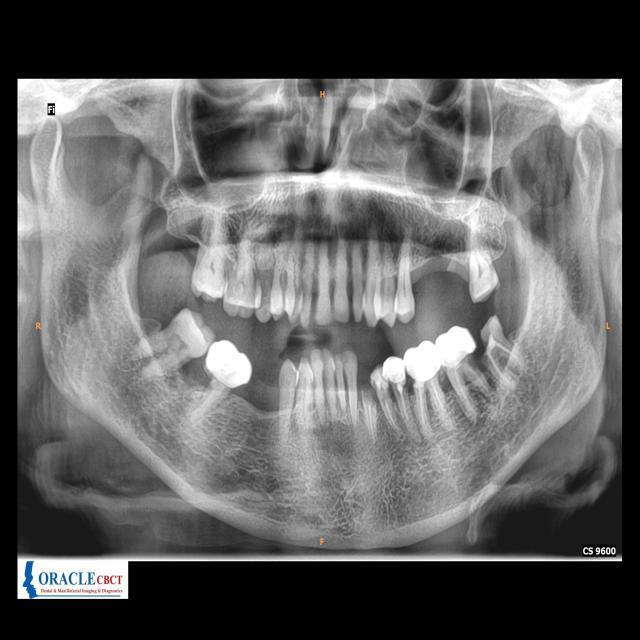dentin-curugu: (475, 314, 504, 351)
dolgu: (372, 365, 388, 394)
kanal-tedavisi: (453, 365, 495, 417), (491, 338, 527, 386), (416, 376, 444, 432), (395, 385, 414, 428), (377, 388, 393, 432), (367, 405, 378, 442)
kaplama: (436, 324, 484, 375), (210, 340, 252, 394), (402, 338, 444, 382), (382, 352, 407, 388)
kirik: (356, 373, 382, 406)
